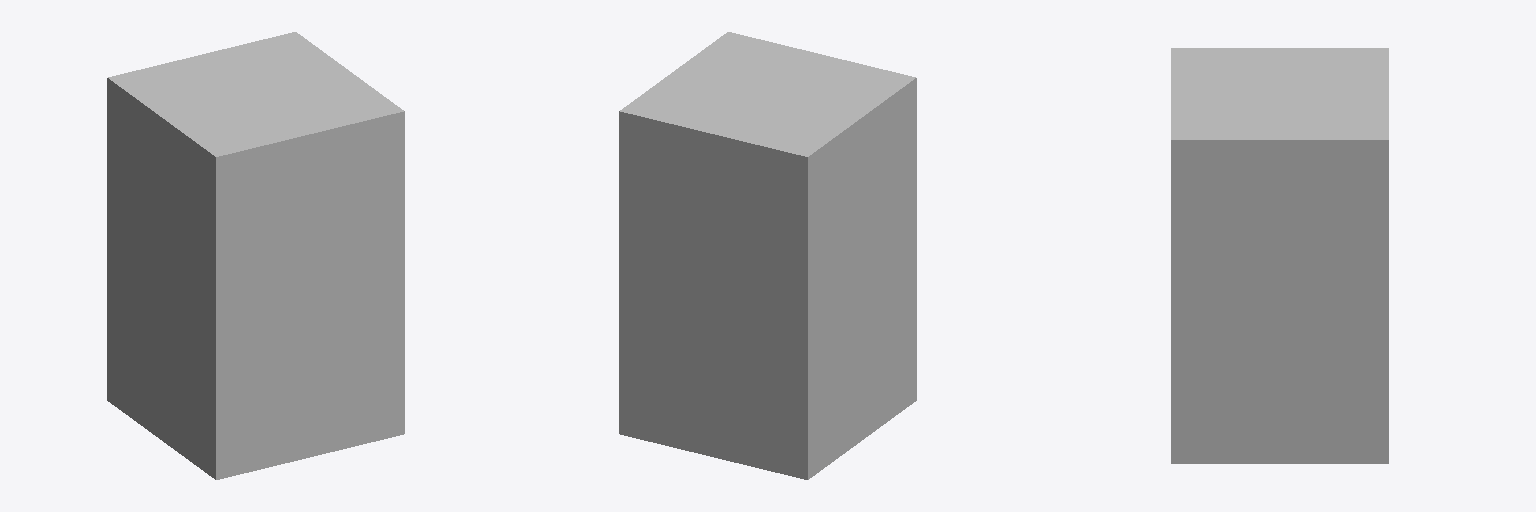
The model's file is Salle2etage.obj.
3 renders of one model, left to right at view 1: azimuth 30°, elevation 25°; view 2: azimuth 150°, elevation 25°; view 3: azimuth 270°, elevation 25°, orthographic.
Visible parts, largest first — view 1: Salle2etage; view 2: Salle2etage; view 3: Salle2etage.
Boxes of the visible parts, box(x1,y1,x2,y2) form: Salle2etage: box(107, 32, 404, 479); Salle2etage: box(619, 32, 916, 479); Salle2etage: box(1171, 48, 1388, 463).
Bounding box in the file's own units: 4 × 6.55 × 4.